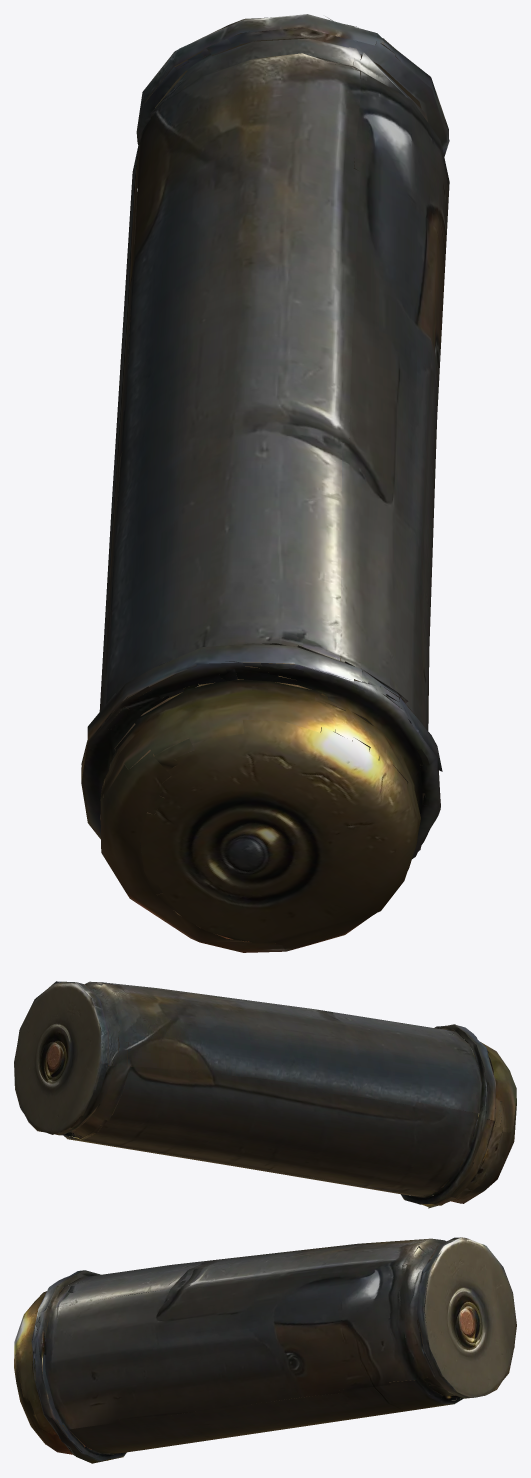
File: mybullet.glb
3 renders of one model, top to bottom at view 1: azimuth 30°, elevation 25°; view 2: azimuth 150°, elevation 25°; view 3: azimuth 270°, elevation 25°, orthographic. The views are drawn at different scales.
Parts seen in each view (by area): view 1: Mesh_0; view 2: Mesh_0; view 3: Mesh_0.
Part boxes in pixels (box(x1,y1,x2,y2)): Mesh_0: box(81, 14, 449, 952); Mesh_0: box(14, 981, 516, 1208); Mesh_0: box(14, 1237, 516, 1463).
Bounding box in the file's own units: 1.58 × 1.33 × 2.
1 material, 1 textured.
